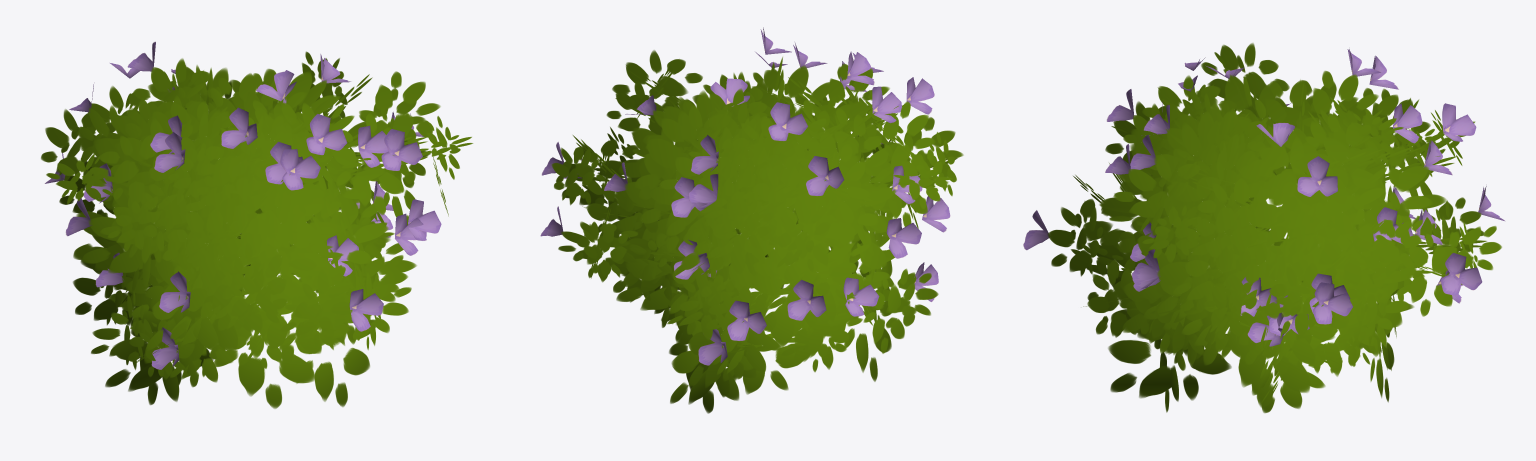
The model's file is bush_flowers.glb.
The picture shows the model from 3 angles, left to right: view 1: azimuth 30°, elevation 25°; view 2: azimuth 150°, elevation 25°; view 3: azimuth 270°, elevation 25°; orthographic projection. The views are drawn at different scales.
Parts seen in each view (by area): view 1: Bush_Common_Flowers; view 2: Bush_Common_Flowers; view 3: Bush_Common_Flowers.
Part boxes in pixels (x1,y1,x2,y2): Bush_Common_Flowers: [41, 41, 472, 408]; Bush_Common_Flowers: [540, 27, 963, 413]; Bush_Common_Flowers: [1023, 43, 1504, 412].
Size of the model in its own units: 1.91 by 1.58 by 1.97.
2 materials, 2 textured.
